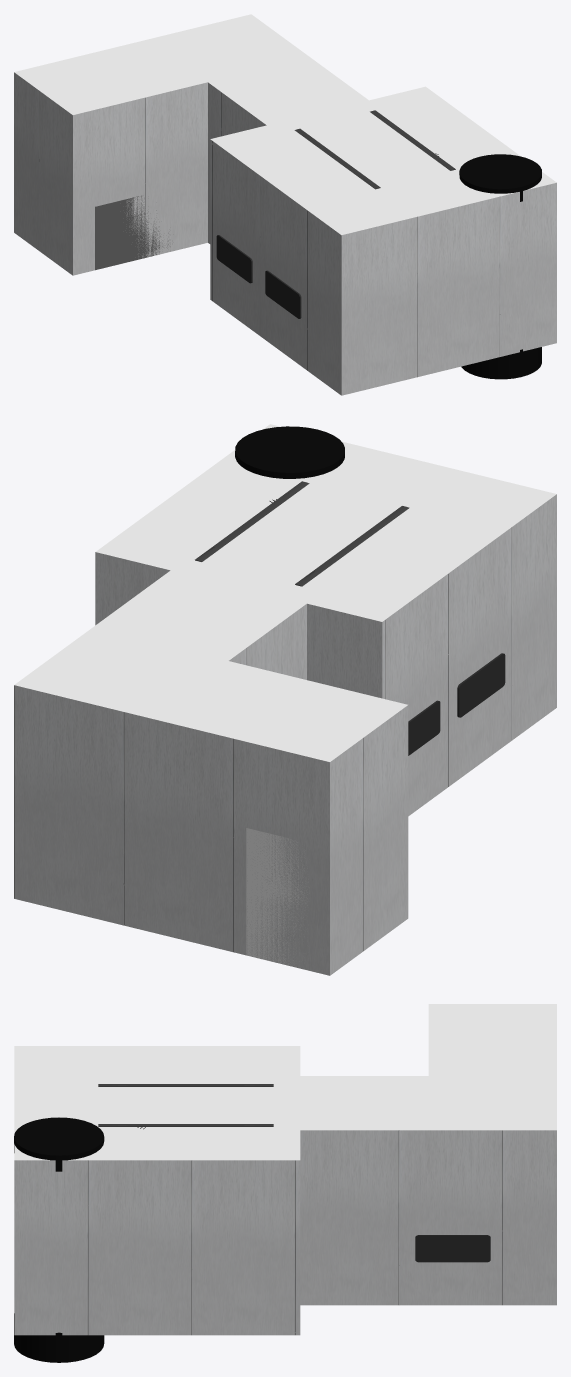
File: lvl4.fbx
3 renders of one model, top to bottom at view 1: azimuth 30°, elevation 25°; view 2: azimuth 150°, elevation 25°; view 3: azimuth 270°, elevation 25°, orthographic. The views are drawn at different scales.
Parts seen in each view (by area): view 1: walls.002, roof.008, scummyCage, shelfrack.003, wallShelf.001, wallShelf, light.001, light; view 2: walls.002, roof.008, cabinet, scummyCage, wallShelf.001, wallShelf, light, light.001; view 3: walls.002, roof.008, scummyCage, wallShelf.002, light, light.001.
Part boxes in pixels (box(x1,y1,x2,y2)): walls.002: box(14, 72, 556, 395); roof.008: box(14, 14, 556, 235); scummyCage: box(459, 154, 541, 379); shelfrack.003: box(95, 195, 170, 270); wallShelf.001: box(265, 270, 301, 318); wallShelf: box(216, 235, 252, 283); light.001: box(294, 128, 380, 189); light: box(370, 110, 455, 170); walls.002: box(14, 494, 556, 975); roof.008: box(14, 424, 556, 761); cabinet: box(246, 828, 309, 965); scummyCage: box(235, 426, 344, 478); wallShelf.001: box(457, 653, 505, 717); wallShelf: box(408, 700, 440, 755); light: box(195, 481, 309, 561); light.001: box(295, 506, 409, 586); walls.002: box(14, 1130, 556, 1335); roof.008: box(14, 1004, 556, 1160); scummyCage: box(14, 1117, 104, 1362); wallShelf.002: box(415, 1235, 490, 1262); light: box(98, 1124, 273, 1126); light.001: box(98, 1084, 273, 1086).
Size of the model in its own units: 5347 by 3303 by 7841.
